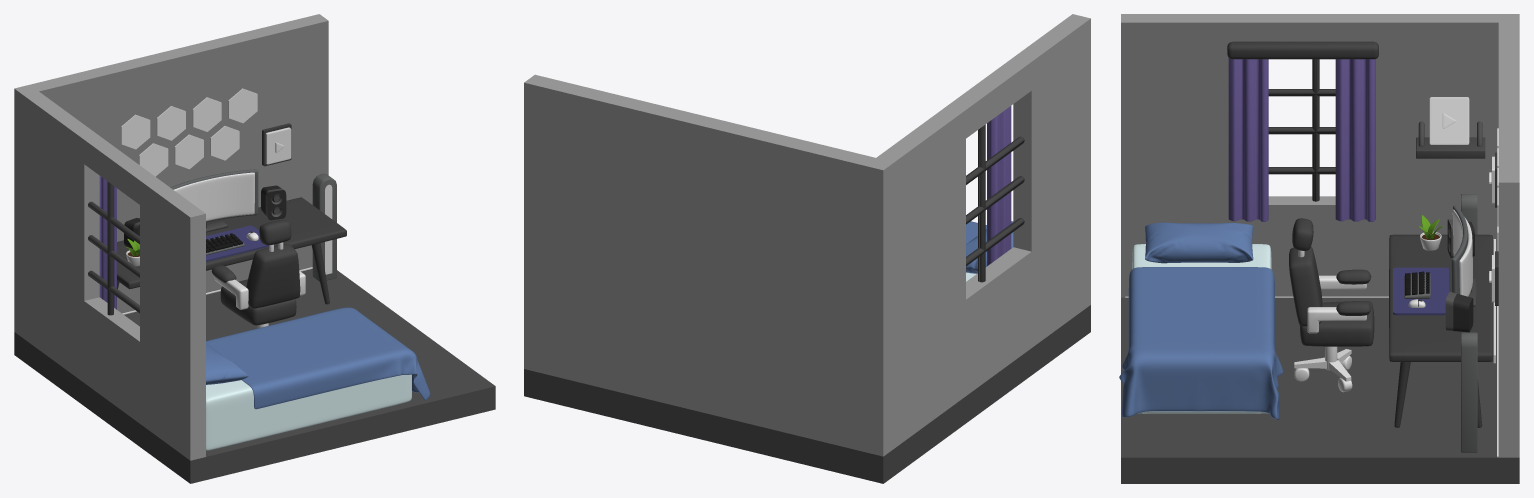
3 views of the same model, side by side, from view 1: azimuth 30°, elevation 25°; view 2: azimuth 150°, elevation 25°; view 3: azimuth 270°, elevation 25° (orthographic). The views are drawn at different scales.
Visible parts, largest first — view 1: Cube.002, blanket, bed, Cylinder.001, Cube.007, Cube.001, monitor.001, window, Cube.011, Cube.006, Speaker, pillow (+3 smaller); view 2: Cube.002, window; view 3: Cube.002, blanket, window, Cube.001, Cube.007, pillow, Cube.011, Cube, mousepad, bed, Rack.001, Speaker (+10 smaller).
Part boxes in pixels (left/top/right/bottom): Cube.002: left=14, top=14, right=495, bottom=483; blanket: left=206, top=307, right=430, bottom=409; bed: left=206, top=374, right=411, bottom=450; Cylinder.001: left=121, top=88, right=257, bottom=176; Cube.007: left=211, top=220, right=300, bottom=325; Cube.001: left=117, top=197, right=346, bottom=289; monitor.001: left=170, top=169, right=258, bottom=232; window: left=88, top=176, right=139, bottom=315; Cube.011: left=312, top=173, right=336, bottom=281; Cube.006: left=262, top=123, right=291, bottom=166; Speaker: left=124, top=185, right=286, bottom=248; pillow: left=206, top=343, right=248, bottom=384; Cube.002: left=524, top=14, right=1090, bottom=483; window: left=966, top=106, right=1024, bottom=282; Cube.002: left=1121, top=14, right=1519, bottom=483; blanket: left=1119, top=267, right=1283, bottom=419; window: left=1227, top=41, right=1378, bottom=221; Cube.001: left=1389, top=234, right=1493, bottom=361; Cube.007: left=1289, top=218, right=1374, bottom=346; pillow: left=1145, top=222, right=1253, bottom=263; Cube.011: left=1461, top=332, right=1477, bottom=452; Cube: left=1429, top=97, right=1469, bottom=144; mousepad: left=1393, top=267, right=1448, bottom=315; bed: left=1132, top=244, right=1271, bottom=413; Rack.001: left=1416, top=121, right=1485, bottom=158; Speaker: left=1445, top=219, right=1474, bottom=332.
Bounding box in the file's own units: 1.56 × 1.3 × 1.57.
